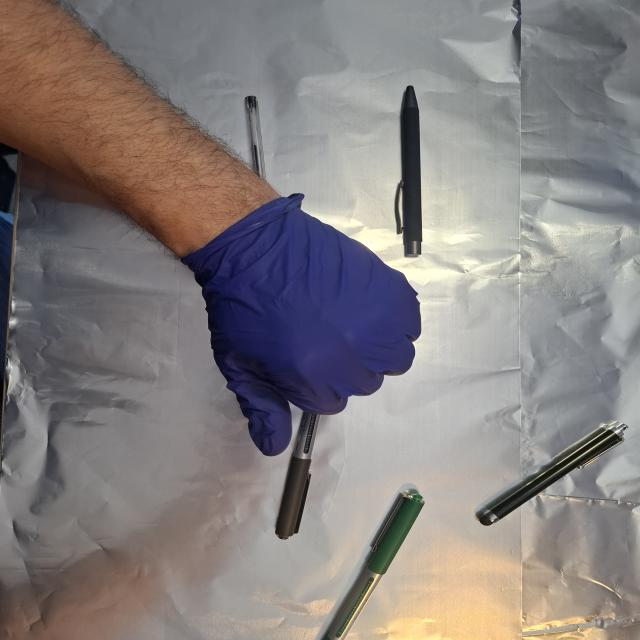glove_on: (182, 194, 425, 459)
